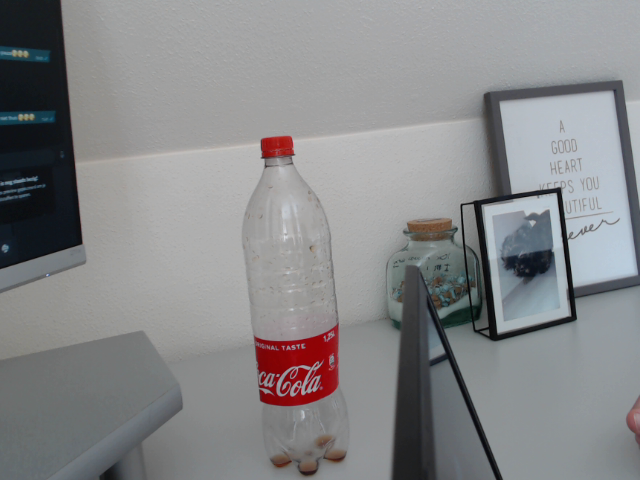bottle: (242, 134, 350, 477)
